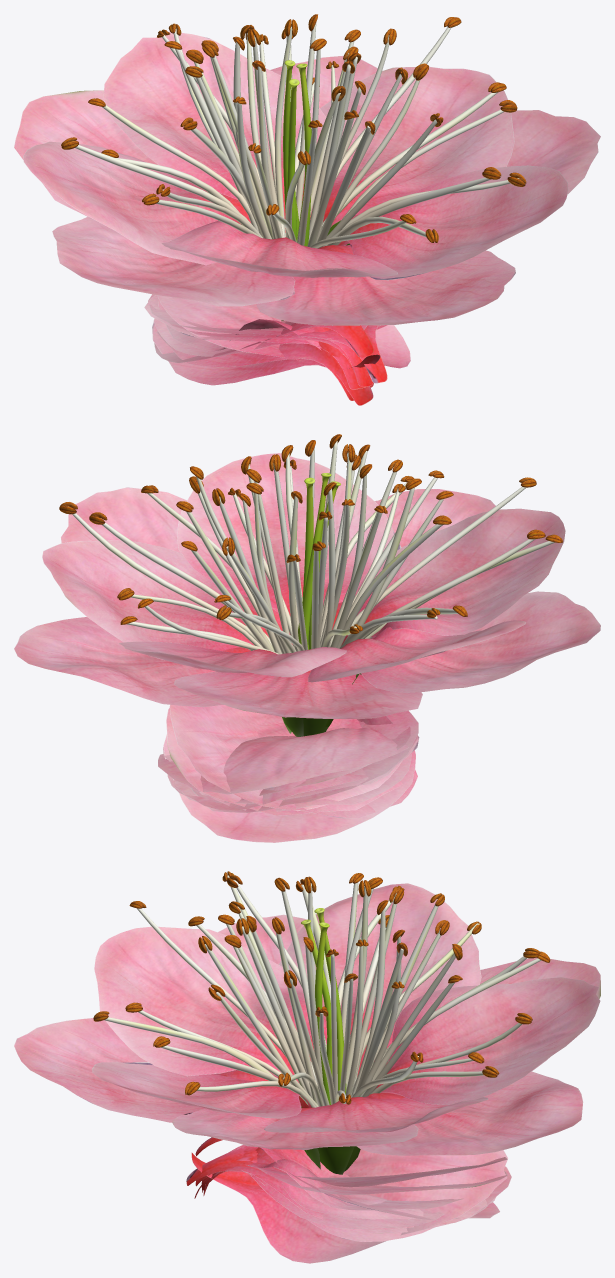
Rendered from MS_PLANT_Flower01.fbx.
3 renders of one model, top to bottom at view 1: azimuth 30°, elevation 25°; view 2: azimuth 150°, elevation 25°; view 3: azimuth 270°, elevation 25°, orthographic. The views are drawn at different scales.
Parts seen in each view (by area): view 1: MS_PLANT_Flower01, MS_PLANT_Flower01.003, MS_PLANT_Flower01.005, MS_PLANT_Flower01.009, MS_PLANT_Flower01.002, MS_PLANT_Flower01.004, MS_PLANT_Flower01.007, MS_PLANT_Flower01.008, MS_PLANT_Flower01.001, MS_PLANT_Flower01.006, MS_PLANT_Flower01.010; view 2: MS_PLANT_Flower01, MS_PLANT_Flower01.003, MS_PLANT_Flower01.005, MS_PLANT_Flower01.004, MS_PLANT_Flower01.009, MS_PLANT_Flower01.002, MS_PLANT_Flower01.010, MS_PLANT_Flower01.006, MS_PLANT_Flower01.007, MS_PLANT_Flower01.008, MS_PLANT_Flower01.001; view 3: MS_PLANT_Flower01, MS_PLANT_Flower01.003, MS_PLANT_Flower01.008, MS_PLANT_Flower01.002, MS_PLANT_Flower01.006, MS_PLANT_Flower01.007, MS_PLANT_Flower01.009, MS_PLANT_Flower01.005, MS_PLANT_Flower01.004, MS_PLANT_Flower01.001, MS_PLANT_Flower01.010.
Part boxes in pixels (x1,y1,x2,y2): MS_PLANT_Flower01: [14, 14, 600, 325]; MS_PLANT_Flower01.003: [157, 295, 410, 368]; MS_PLANT_Flower01.005: [152, 322, 373, 405]; MS_PLANT_Flower01.009: [157, 330, 353, 400]; MS_PLANT_Flower01.002: [148, 294, 387, 383]; MS_PLANT_Flower01.004: [154, 323, 373, 362]; MS_PLANT_Flower01.007: [144, 295, 387, 389]; MS_PLANT_Flower01.008: [166, 319, 331, 352]; MS_PLANT_Flower01.001: [177, 317, 373, 386]; MS_PLANT_Flower01.006: [153, 318, 361, 357]; MS_PLANT_Flower01.010: [158, 298, 380, 387]; MS_PLANT_Flower01: [14, 434, 600, 736]; MS_PLANT_Flower01.003: [158, 728, 408, 794]; MS_PLANT_Flower01.005: [169, 704, 417, 818]; MS_PLANT_Flower01.004: [163, 734, 415, 842]; MS_PLANT_Flower01.009: [166, 708, 402, 815]; MS_PLANT_Flower01.002: [170, 710, 418, 812]; MS_PLANT_Flower01.010: [167, 728, 417, 810]; MS_PLANT_Flower01.006: [212, 714, 411, 811]; MS_PLANT_Flower01.007: [163, 719, 419, 803]; MS_PLANT_Flower01.008: [190, 716, 402, 812]; MS_PLANT_Flower01.001: [212, 726, 410, 802]; MS_PLANT_Flower01: [14, 871, 600, 1174]; MS_PLANT_Flower01.003: [191, 1149, 507, 1263]; MS_PLANT_Flower01.008: [204, 1147, 423, 1219]; MS_PLANT_Flower01.002: [186, 1145, 495, 1233]; MS_PLANT_Flower01.006: [205, 1159, 463, 1210]; MS_PLANT_Flower01.007: [206, 1170, 444, 1228]; MS_PLANT_Flower01.009: [203, 1168, 507, 1195]; MS_PLANT_Flower01.005: [194, 1157, 507, 1198]; MS_PLANT_Flower01.004: [195, 1137, 499, 1220]; MS_PLANT_Flower01.001: [195, 1145, 434, 1241]; MS_PLANT_Flower01.010: [201, 1145, 511, 1230].
Bounding box in the file's own units: 0.0533 × 0.0319 × 0.0536.
Materials: 1 (1 with a texture image).
